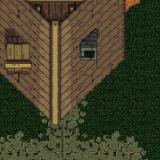Obstacle: (0, 0, 156, 60)
